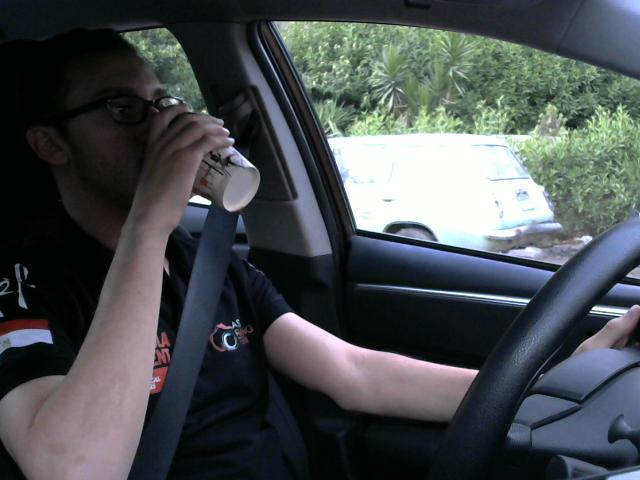Drinking: (147, 106, 267, 219)
